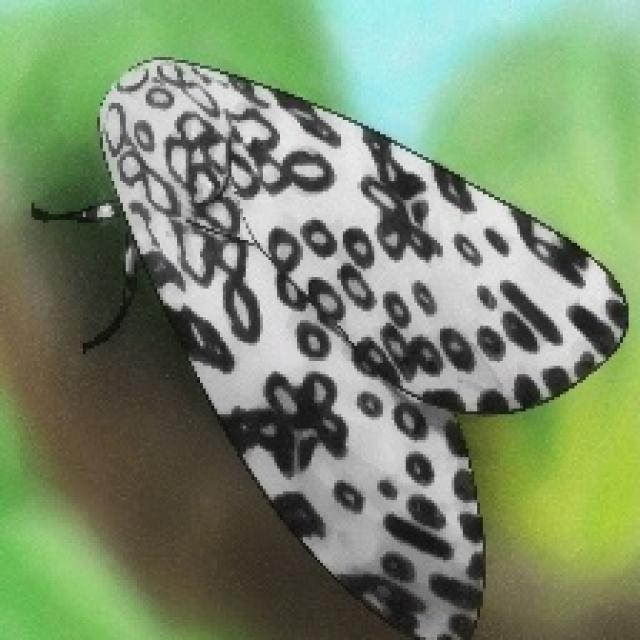butterfly: (29, 52, 628, 637)
